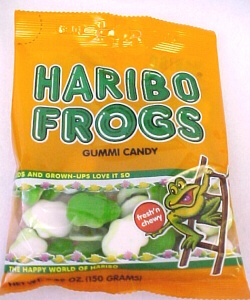grozi_106: (0, 0, 250, 299)
